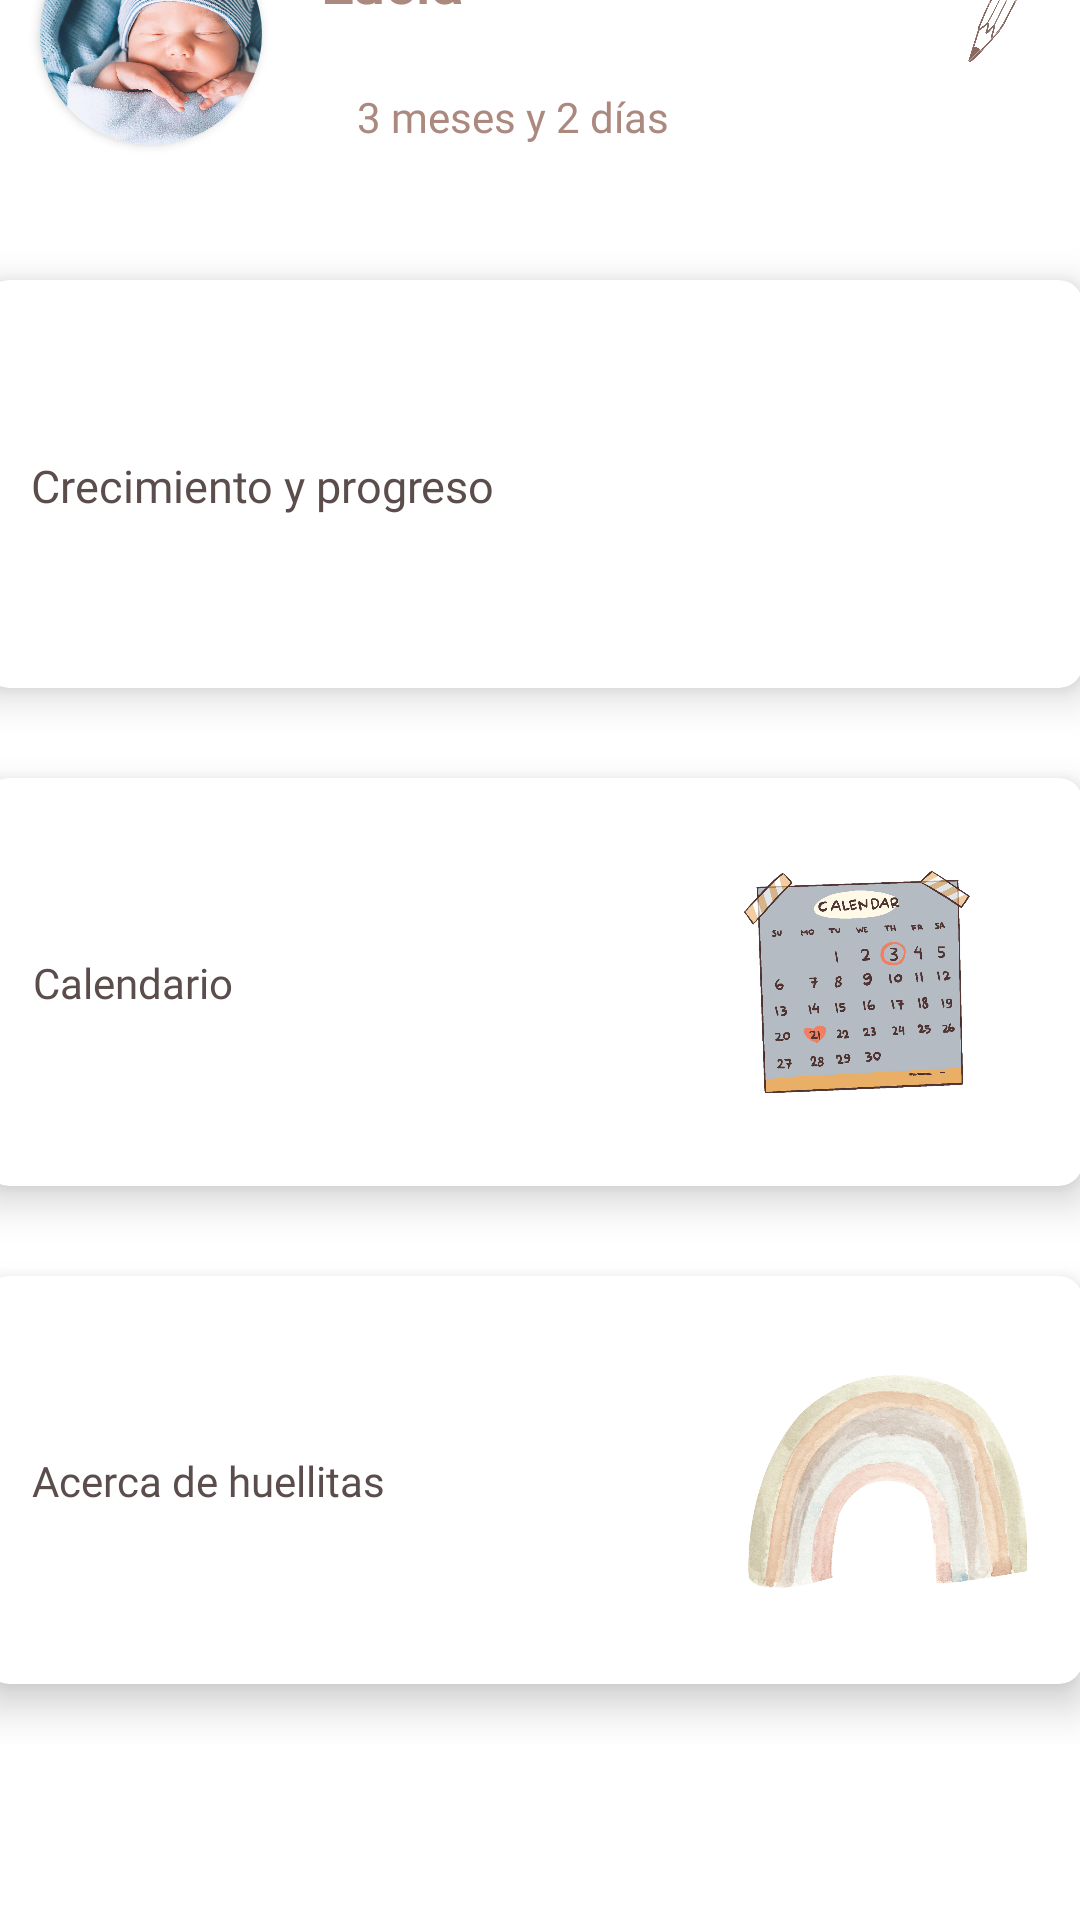

Icons on this 1080 × 1920 Android screen, each with its box as Rect(x1, y1, x2, y2):
fotoarco: Rect(748, 1375, 1027, 1588)
